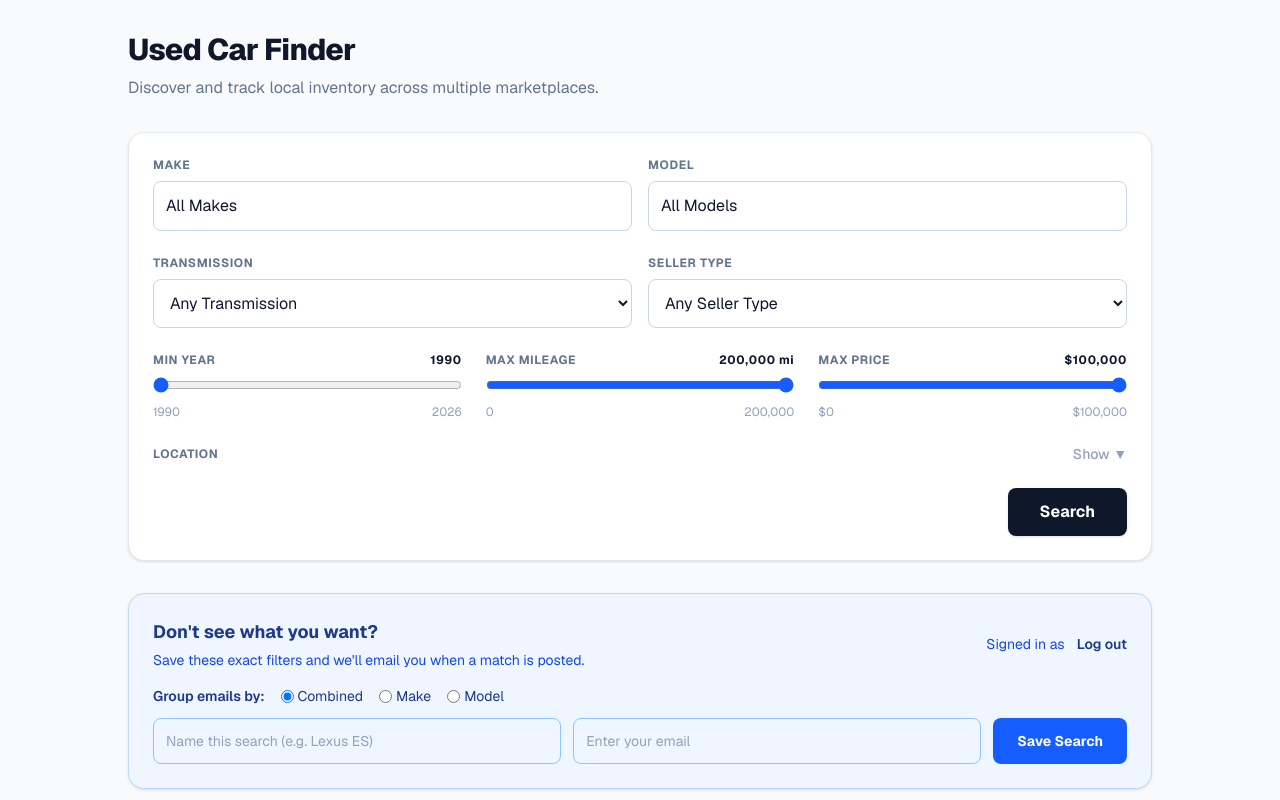
Test: auth › logging out returns to the login form
The width and height of the screenshot is (1280, 800).
Expected: the text "Signed in as" is shown, [986,634,1065,654]
What coordinates should you click on to do the following:
click the button "Log out"
I would click on:
 (1102, 644)
Its box is [1077,634,1127,654].
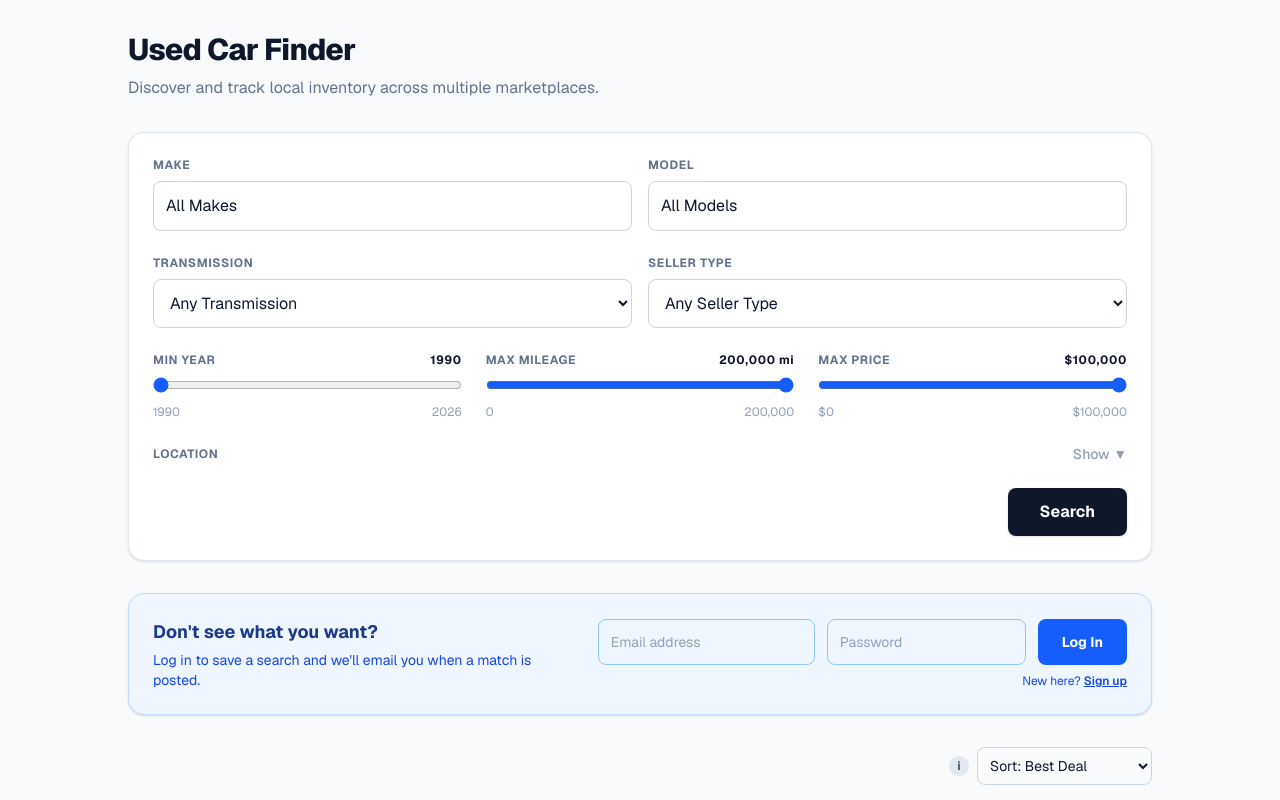
Expected: the field with placeholder "Email address" is shown, [598,619,815,665]
